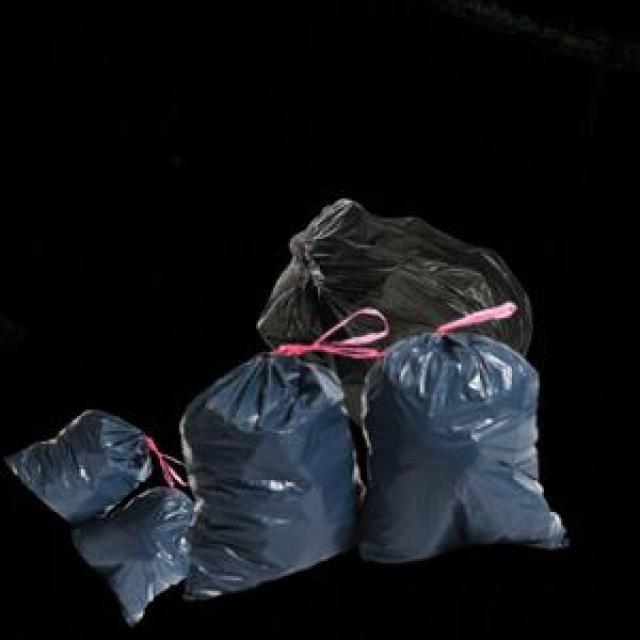Trashbag: (356, 327, 571, 569), (254, 194, 537, 368), (177, 352, 365, 602), (0, 403, 155, 526), (73, 486, 201, 625)
